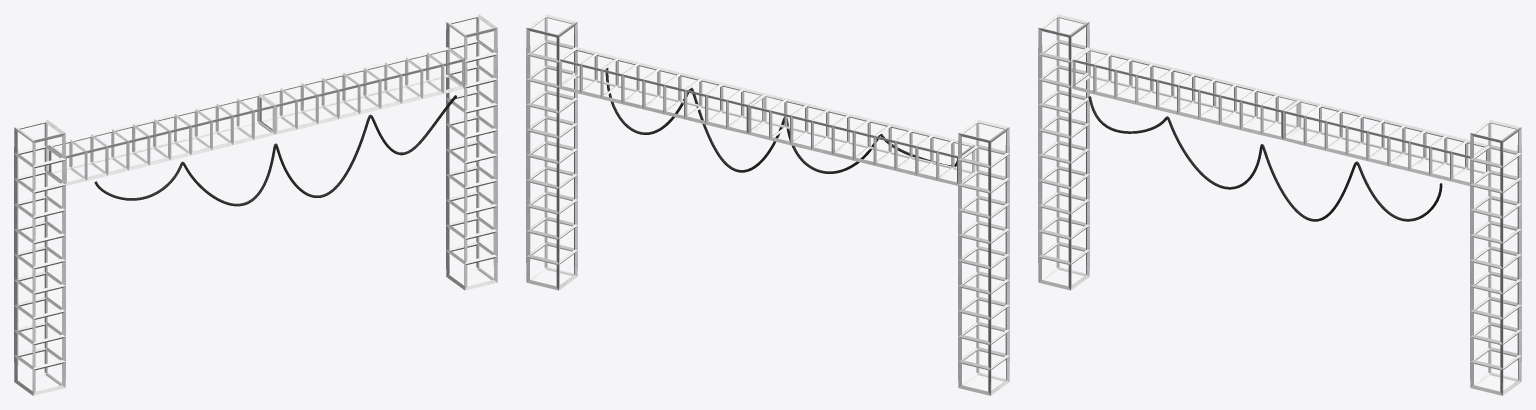
File: holder.fbx
The picture shows the model from 3 angles, left to right: view 1: azimuth 30°, elevation 25°; view 2: azimuth 150°, elevation 25°; view 3: azimuth 330°, elevation 25°; orthographic projection.
Visible parts, largest first — view 1: Cube.008, Cube.009, Cube.010, Cube.011, NurbsPath.008; view 2: Cube.008, Cube.009, Cube.010, Cube.011, NurbsPath.008; view 3: Cube.009, Cube.008, Cube.010, Cube.011, NurbsPath.008.
Part boxes in pixels (x1=…): Cube.008: x1=14, y1=119, x2=65, y2=395; Cube.009: x1=446, y1=14, x2=497, y2=290; Cube.010: x1=48, y1=93, x2=275, y2=185; Cube.011: x1=259, y1=47, x2=464, y2=134; NurbsPath.008: x1=94, y1=95, x2=456, y2=206; Cube.008: x1=958, y1=119, x2=1009, y2=395; Cube.009: x1=526, y1=14, x2=577, y2=290; Cube.010: x1=748, y1=93, x2=975, y2=185; Cube.011: x1=559, y1=47, x2=764, y2=134; NurbsPath.008: x1=605, y1=67, x2=956, y2=173; Cube.009: x1=1470, y1=119, x2=1521, y2=395; Cube.008: x1=1038, y1=14, x2=1089, y2=290; Cube.010: x1=1072, y1=47, x2=1298, y2=139; Cube.011: x1=1283, y1=99, x2=1488, y2=185; NurbsPath.008: x1=1088, y1=96, x2=1442, y2=221.
Bounding box in the file's own units: 1492 × 782 × 196.
